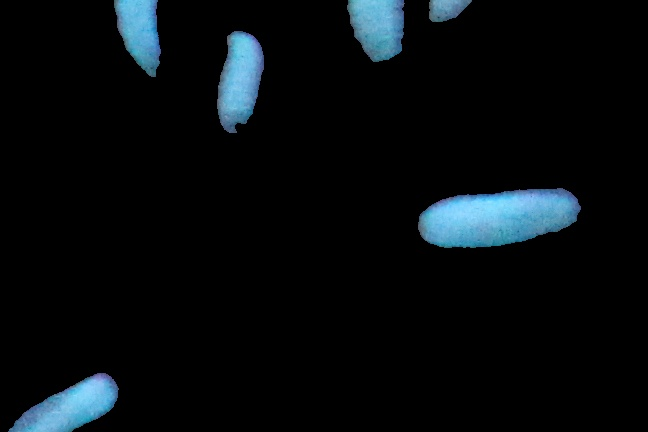larvae: (420, 191, 576, 249), (12, 376, 124, 432), (105, 1, 170, 77), (218, 33, 261, 129), (351, 1, 400, 60)
